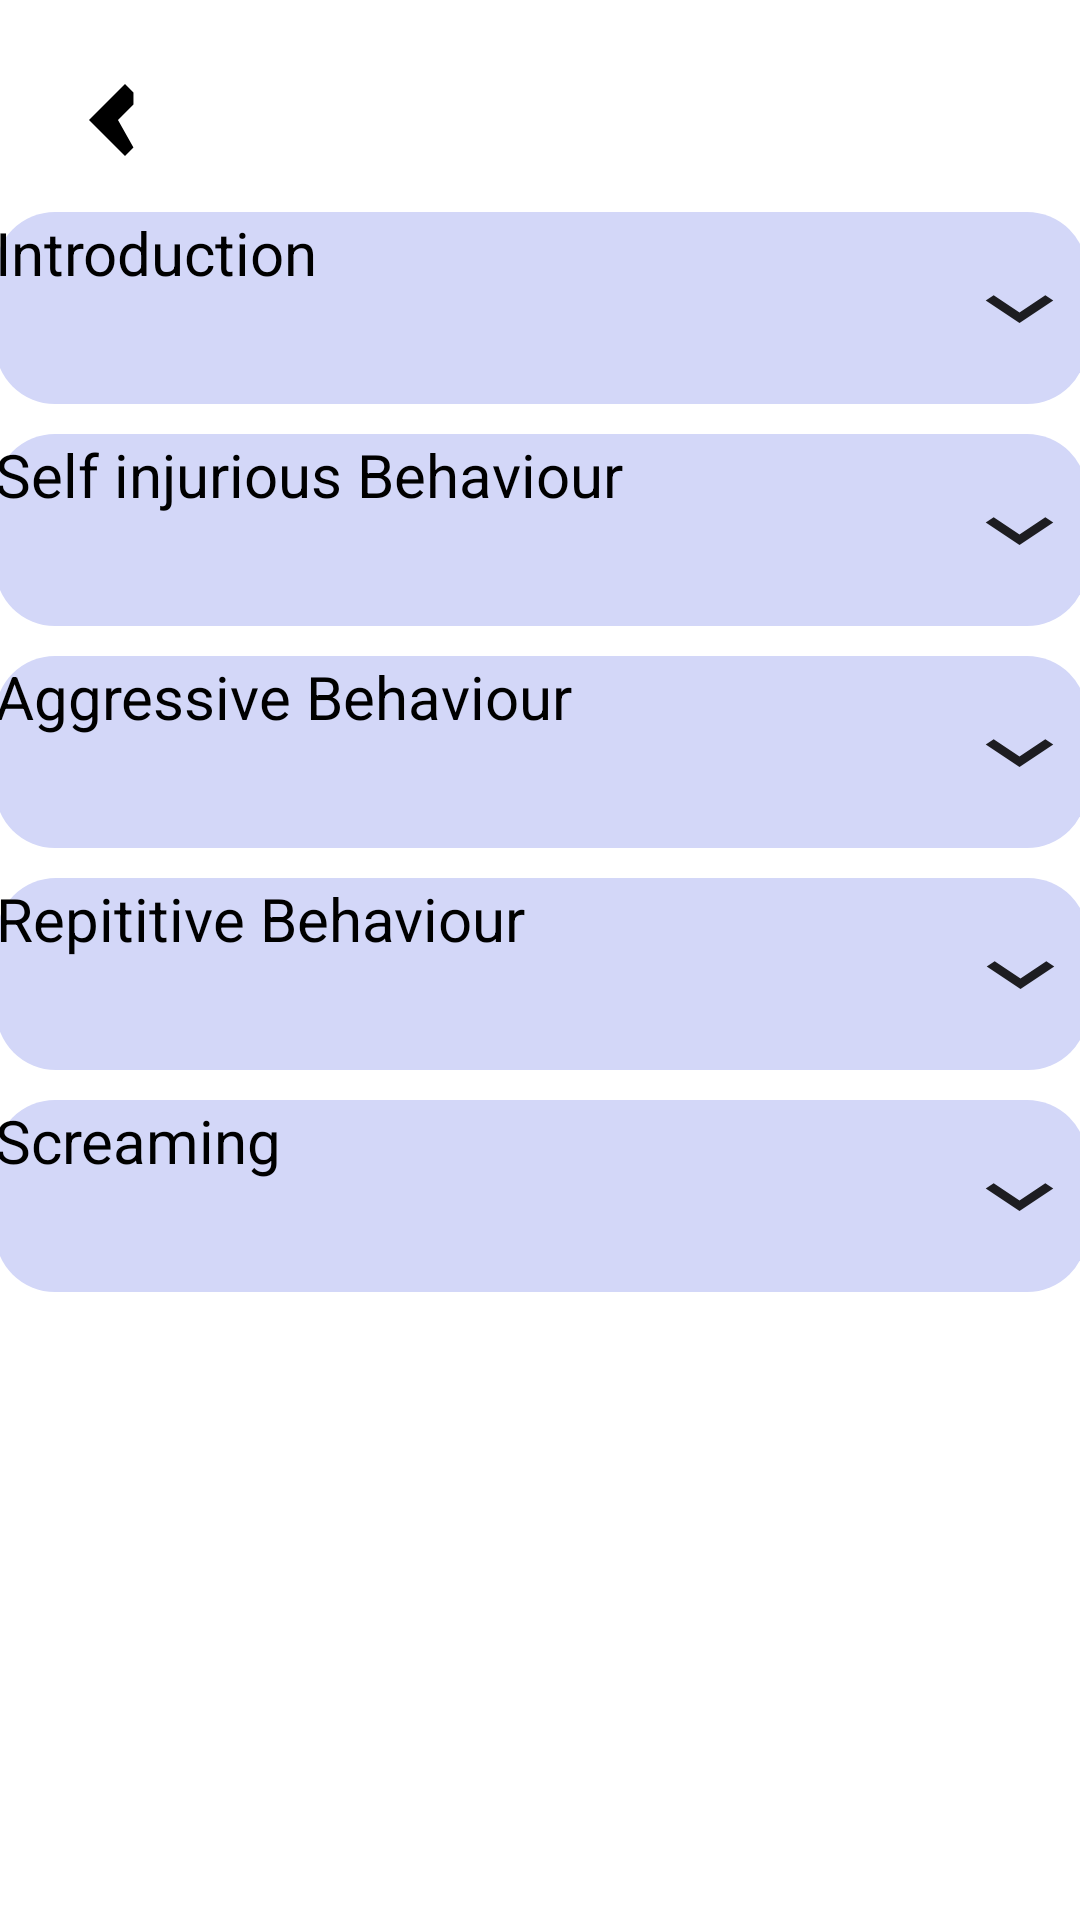

Screen size 1080×1920. Icon name, then its center in pixels as (x,y):
back: (111,120)
